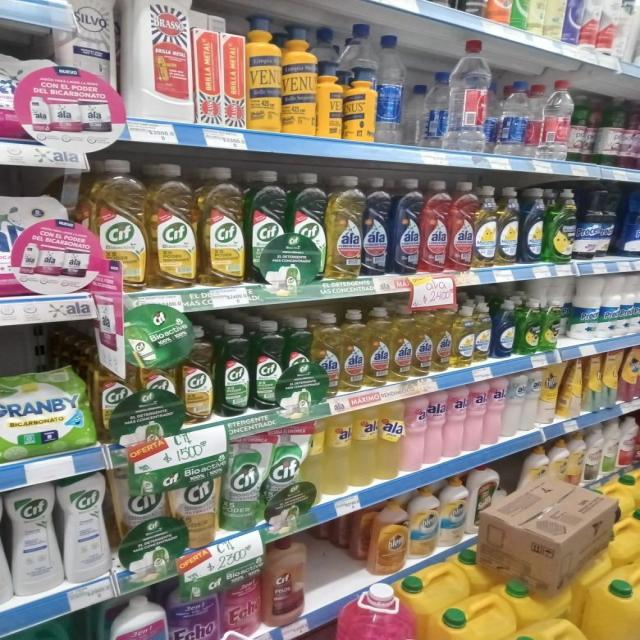ala_conc_amarillo: (327, 175, 362, 279), (313, 312, 340, 398), (366, 307, 391, 386), (341, 309, 365, 391), (391, 305, 412, 381), (413, 305, 432, 377), (433, 305, 452, 372)
ala_conc_azul: (363, 176, 391, 277), (392, 177, 420, 276)
ala_conc_rojo: (422, 179, 448, 273), (449, 180, 474, 270)
ala_crem_amarillo: (322, 410, 351, 495), (352, 403, 376, 487), (378, 400, 402, 481)
ala_crem_blanco: (504, 373, 524, 437), (540, 364, 558, 426), (524, 370, 539, 432)
ala_crem_rosado: (402, 395, 426, 473), (445, 386, 466, 458), (426, 392, 444, 466)
cif_conc_bot_amarilla: (93, 159, 147, 293), (149, 162, 197, 290), (199, 165, 245, 286), (182, 326, 214, 424)
cif_conc_botella_verde: (248, 169, 286, 286), (288, 171, 325, 284), (215, 322, 250, 416), (252, 319, 281, 410), (283, 317, 312, 408)
cif_conc_sachet_amarillo: (175, 446, 219, 548)
cif_conc_sachet_verde: (115, 462, 175, 576), (222, 436, 264, 531), (268, 426, 308, 520)
magistral_con_amarillo: (474, 185, 496, 268), (498, 186, 520, 266), (453, 304, 474, 368), (474, 302, 492, 363)
magistral_con_azul: (520, 186, 544, 264), (493, 300, 515, 358)
